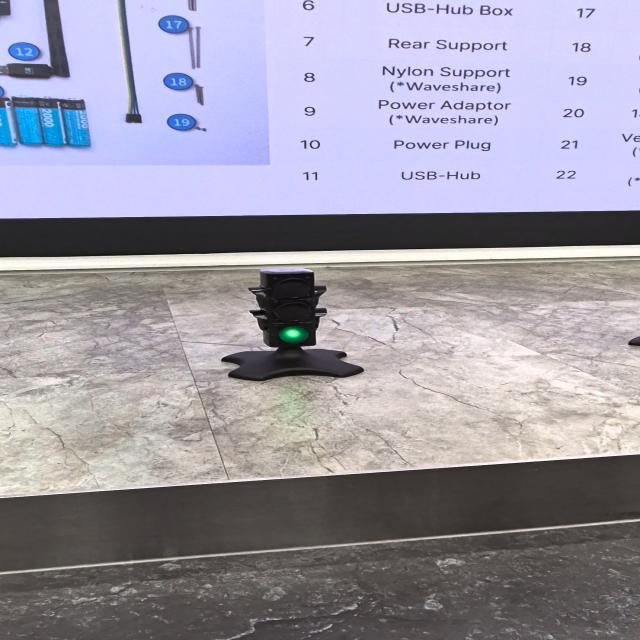green_light: (279, 327, 309, 343)
